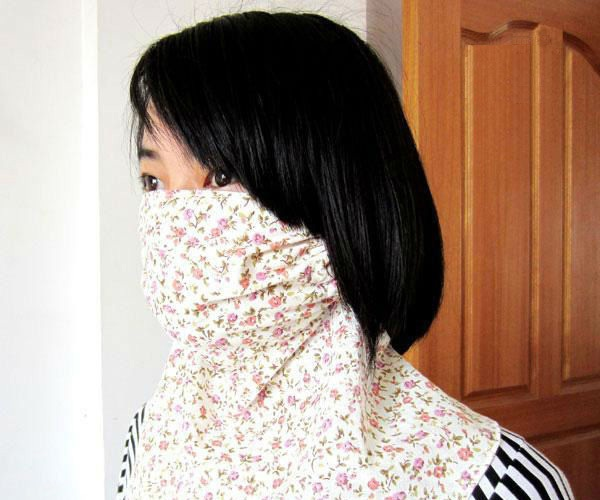face_mask: (136, 111, 296, 341)
